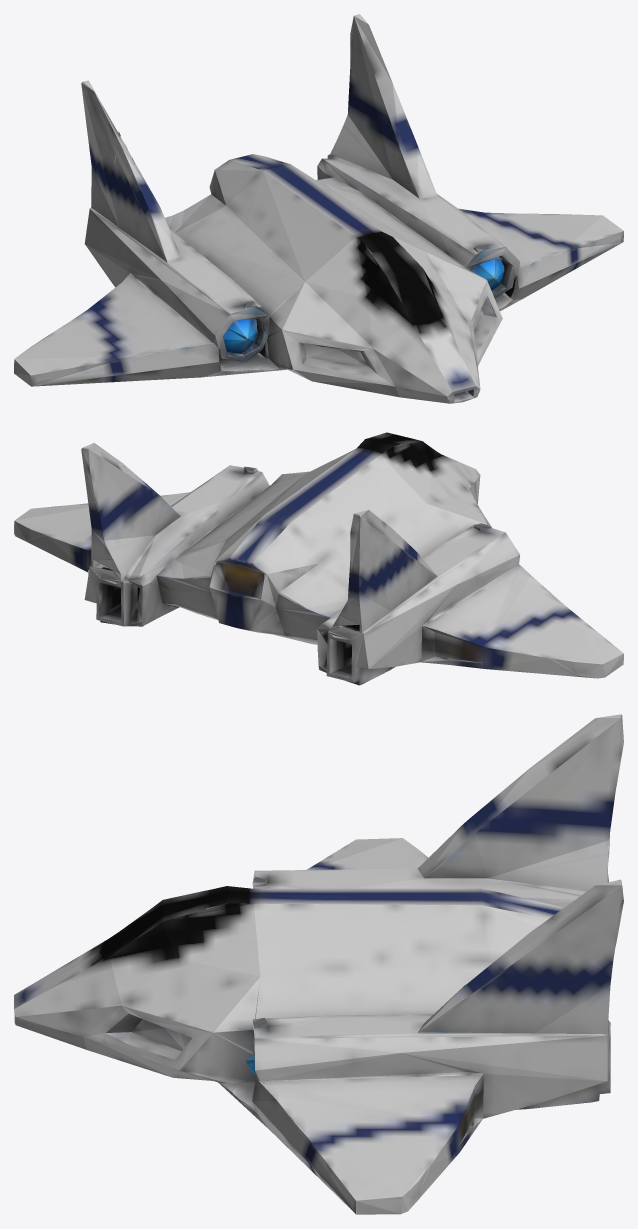
3 views of the same model, one above another, from view 1: azimuth 30°, elevation 25°; view 2: azimuth 150°, elevation 25°; view 3: azimuth 270°, elevation 25° (orthographic). The views are drawn at different scales.
Parts seen in each view (by area): view 1: world; view 2: world; view 3: world.
Part boxes in pixels (bbox=[...]): world: bbox=[14, 14, 623, 403]; world: bbox=[14, 432, 623, 685]; world: bbox=[14, 714, 623, 1214].
Size of the model in its own units: 1 by 0.3052 by 0.7153.
Materials: 1 (1 with a texture image).
